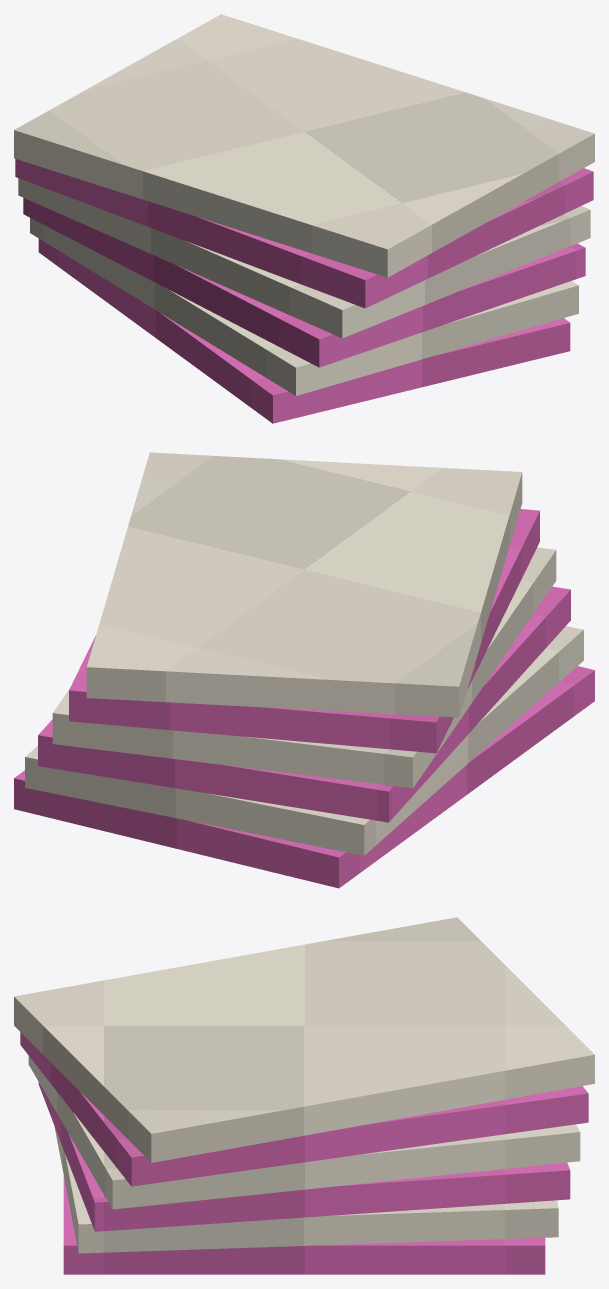
File: period-magazines.glb
The picture shows the model from 3 angles, top to bottom: view 1: azimuth 30°, elevation 25°; view 2: azimuth 150°, elevation 25°; view 3: azimuth 270°, elevation 25°; orthographic projection. The views are drawn at different scales.
Visible parts, largest first — view 1: magazine-pile; view 2: magazine-pile; view 3: magazine-pile.
Part boxes in pixels (left/top/right/bottom): magazine-pile: left=14, top=14, right=594, bottom=423; magazine-pile: left=14, top=452, right=594, bottom=888; magazine-pile: left=14, top=917, right=594, bottom=1274.
Bounding box in the file's own units: 0.3195 × 0.12 × 0.362.
2 materials, 2 textured.
